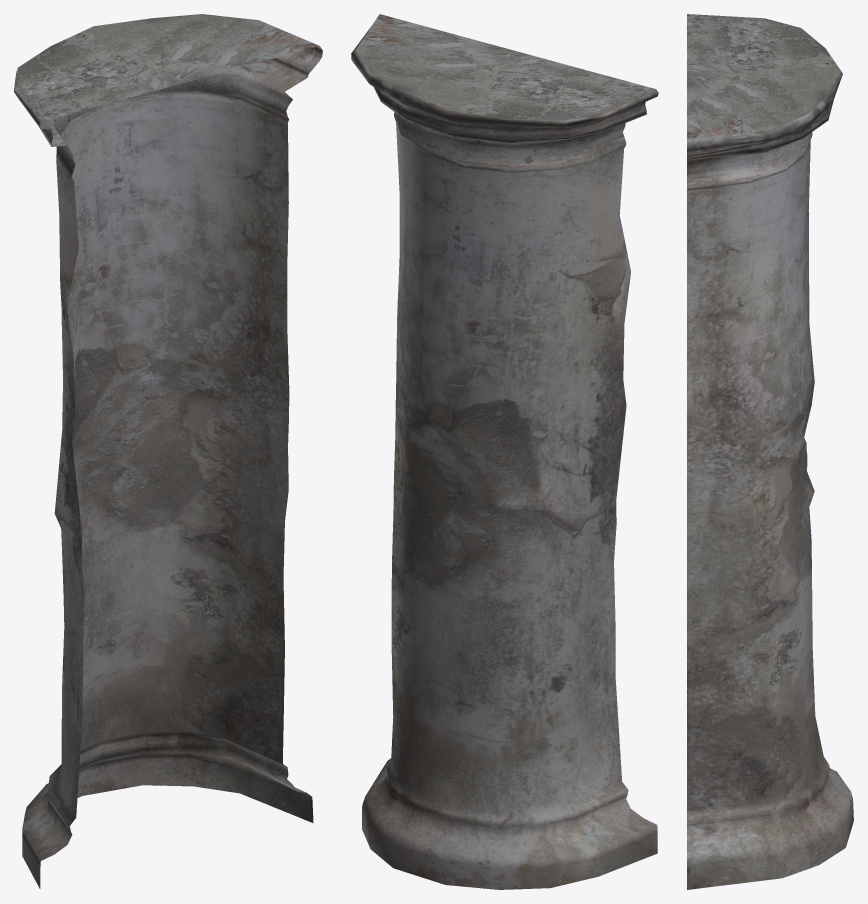
Rendered from SM_CryptColumn_01_03.fbx.
3 views of the same model, side by side, from view 1: azimuth 30°, elevation 25°; view 2: azimuth 150°, elevation 25°; view 3: azimuth 270°, elevation 25° (orthographic). The views are drawn at different scales.
Visible parts, largest first — view 1: sm_CryptColumn_01_03_LOD0; view 2: sm_CryptColumn_01_03_LOD0; view 3: sm_CryptColumn_01_03_LOD0.
Part boxes in pixels (x1,y1,x2,y2): sm_CryptColumn_01_03_LOD0: (14, 14, 322, 888); sm_CryptColumn_01_03_LOD0: (351, 14, 658, 889); sm_CryptColumn_01_03_LOD0: (687, 14, 853, 889).
Bounding box in the file's own units: 37.91 × 72.31 × 189.
